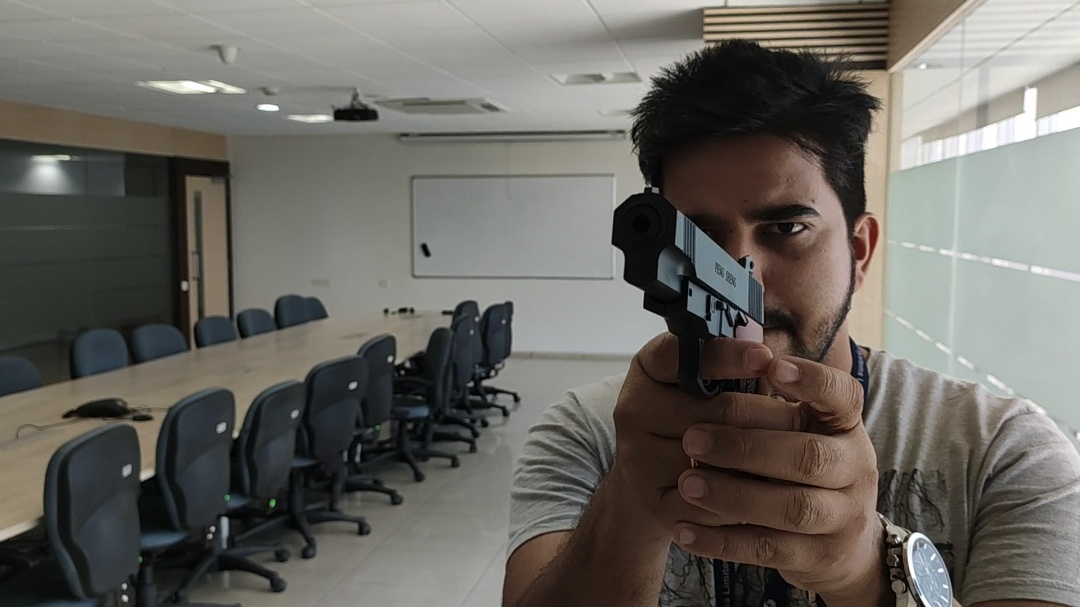gun: (611, 185, 765, 399)
